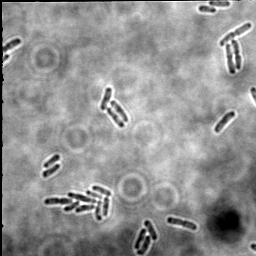Dividing: (219, 21, 253, 47), (166, 215, 199, 232), (231, 39, 244, 70), (225, 42, 237, 75)
Microcolony: (42, 184, 112, 222)
Rod: (214, 110, 237, 134), (111, 99, 129, 124), (106, 106, 125, 128), (99, 86, 114, 112), (142, 219, 159, 241), (133, 227, 148, 250), (42, 163, 62, 179), (137, 235, 152, 256), (42, 153, 61, 169), (197, 4, 217, 15), (208, 1, 231, 8)
